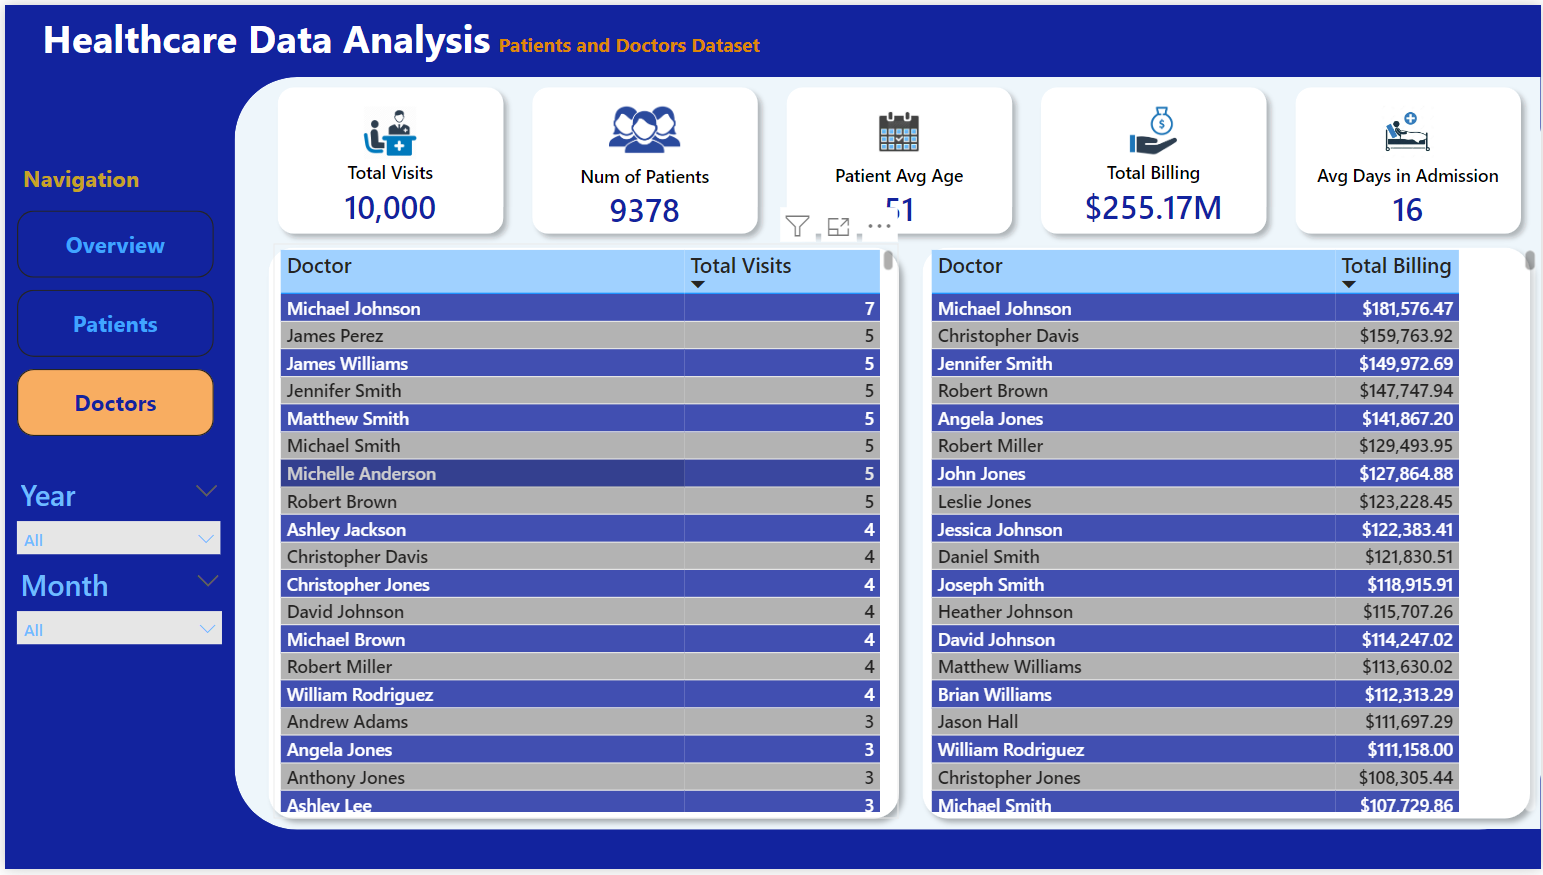

The page's visual inventory and layout, read from the dashboard file:
{"tool":"powerbi","page":{"name":"Doctors","canvas":[1280,720],"ordinal":2},"visuals":[{"type":"shape","box":[190.9,59.8,1089.1,627.3],"z":0},{"type":"shape","box":[1227.7,60,52.3,626.9],"z":1000},{"type":"cardVisual","fields":{"Data":["healthcare_dataset.Total Visits","healthcare_dataset.Num of Patients","healthcare_dataset.Patient avg age","healthcare_dataset.Total billing","healthcare_dataset.Avg days in Admission"]},"box":[210,50.8,1070,156.9],"z":2000},{"type":"shape","box":[209.9,192.1,544.6,495],"z":3000},{"type":"shape","box":[754.5,192.1,525.5,495],"z":4000},{"type":"tableEx","fields":{"Values":["healthcare_dataset.Doctor","healthcare_dataset.Total Visits"]},"box":[223.9,198.5,521.7,478.4],"z":5000},{"type":"tableEx","fields":{"Values":["healthcare_dataset.Doctor","healthcare_dataset.Total billing"]},"box":[766,198.5,514,478.4],"z":6000},{"type":"textbox","box":[26.7,0,519.1,59.8],"z":7000},{"type":"textbox","box":[405.6,16.2,278.8,34.4],"z":8000},{"type":"textbox","box":[10.2,126,137.4,38.2],"z":9000},{"type":"pageNavigator","box":[10.2,171.8,164.1,188.3],"z":10000},{"type":"slicer","fields":{"Values":["healthcare_dataset.Year"]},"box":[0,386.8,189.6,106.9],"z":11000},{"type":"slicer","fields":{"Values":["healthcare_dataset.Admission(month)"]},"box":[0,461.9,190.9,86.5],"z":12000}]}

Visuals, with their boxes in screenshot pixels (x1, y1, x2, y2), scaled from the page's 1280x720 canvas onto the 1543x875 screenshot:
shape: {"x1": 230, "y1": 73, "x2": 1542, "y2": 835}
shape: {"x1": 1480, "y1": 73, "x2": 1542, "y2": 835}
cardVisual - healthcare_dataset.Total Visits x healthcare_dataset.Num of Patients: {"x1": 253, "y1": 62, "x2": 1542, "y2": 252}
shape: {"x1": 253, "y1": 233, "x2": 910, "y2": 835}
shape: {"x1": 910, "y1": 233, "x2": 1542, "y2": 835}
tableEx - healthcare_dataset.Doctor x healthcare_dataset.Total Visits: {"x1": 270, "y1": 241, "x2": 899, "y2": 823}
tableEx - healthcare_dataset.Doctor x healthcare_dataset.Total billing: {"x1": 923, "y1": 241, "x2": 1542, "y2": 823}
textbox: {"x1": 32, "y1": 0, "x2": 658, "y2": 73}
textbox: {"x1": 489, "y1": 20, "x2": 825, "y2": 61}
textbox: {"x1": 12, "y1": 153, "x2": 178, "y2": 200}
pageNavigator: {"x1": 12, "y1": 209, "x2": 210, "y2": 438}
slicer - healthcare_dataset.Year: {"x1": 0, "y1": 470, "x2": 229, "y2": 600}
slicer - healthcare_dataset.Admission(month): {"x1": 0, "y1": 561, "x2": 230, "y2": 666}
